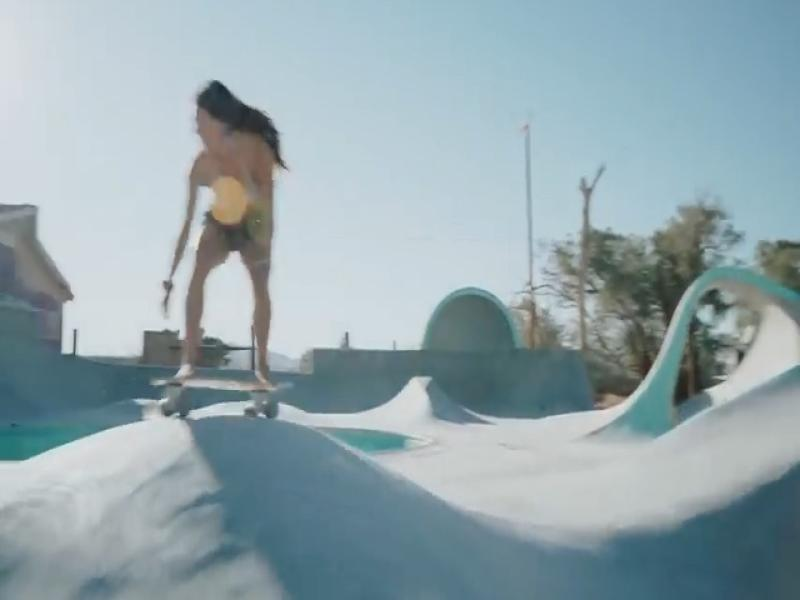person: (164, 81, 284, 385)
skate: (184, 377, 262, 391)
